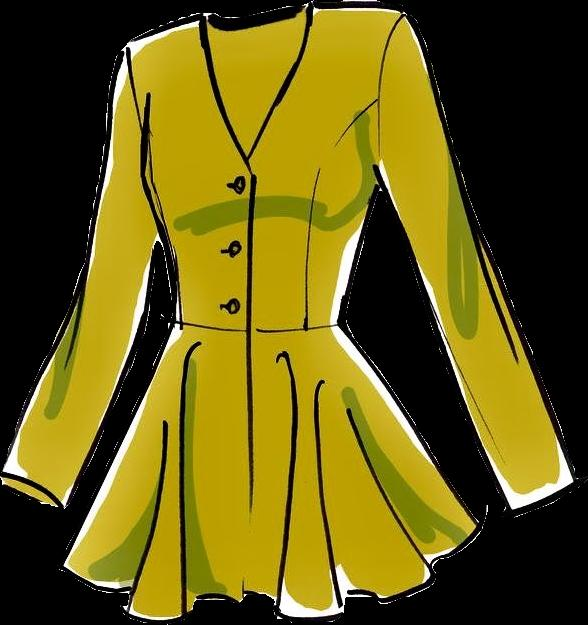Bodice: (124, 0, 403, 335)
Hemline: (59, 529, 482, 624)
Neckline: (198, 3, 311, 160)
Skirt: (63, 322, 480, 624)
Sleeve: (378, 13, 574, 513), (0, 47, 159, 509)
Sleeveline: (375, 12, 408, 166), (123, 42, 148, 147)
Waistline: (173, 318, 347, 338)
